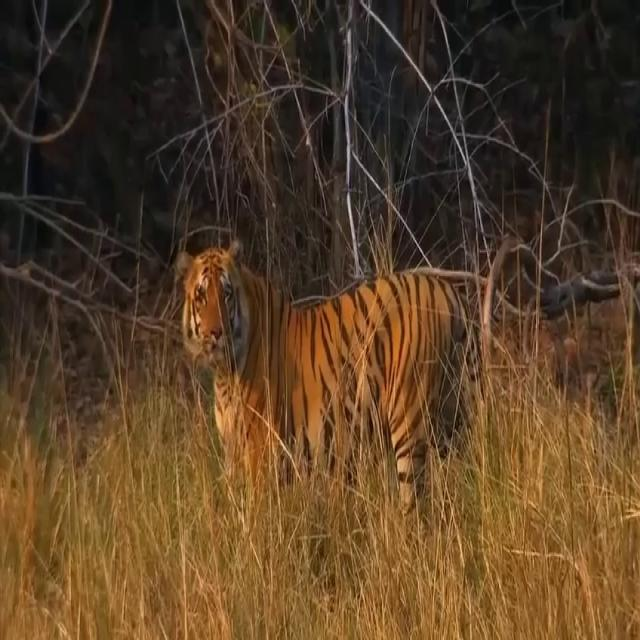tiger: (177, 236, 490, 515)
